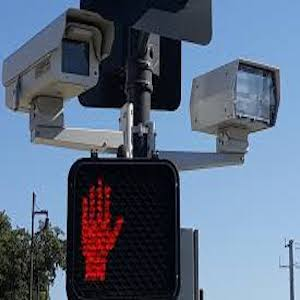red: (74, 178, 127, 279)
